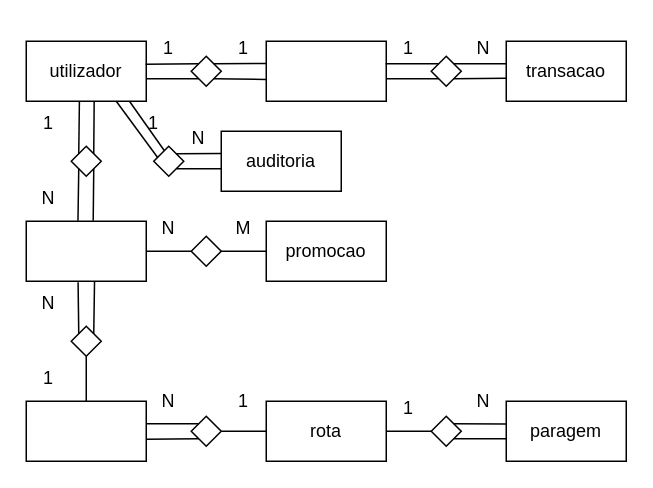
Some shapes in this 653 by 488 pixel diagram are drawn without their labels. The centre of each missing label's shape, as x and y in pixels:
"bilhete" belongs at (x=85, y=250).
"cateira" belongs at (x=325, y=70).
"viagem" belongs at (x=85, y=430).
